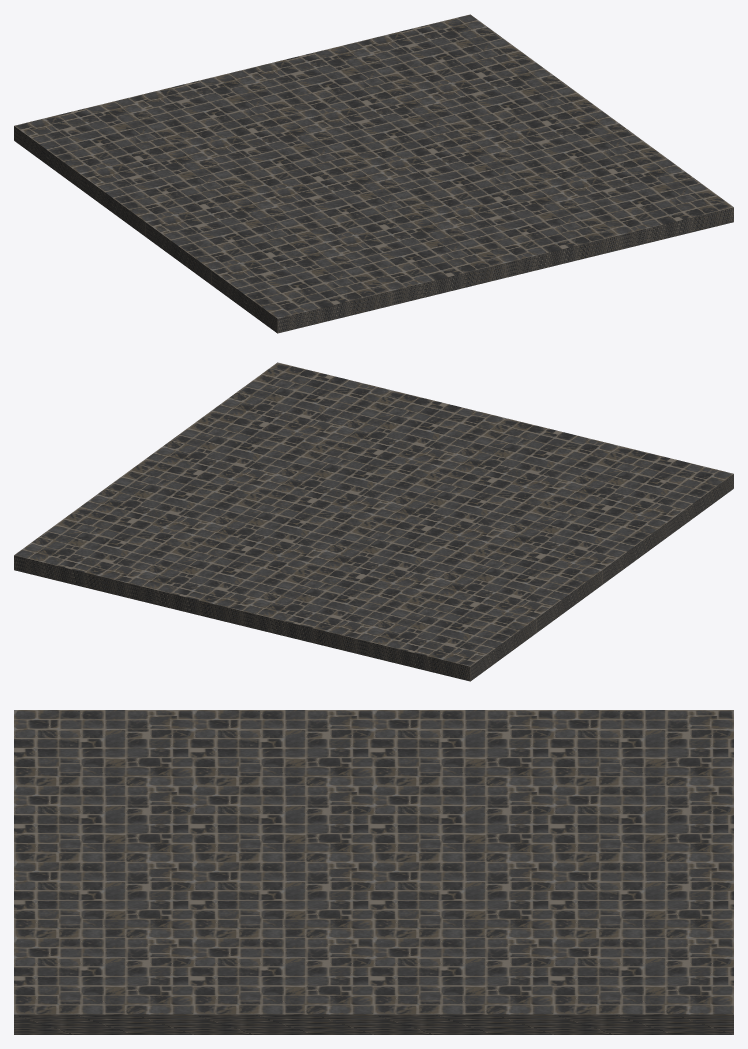
The model's file is SM_TileGround4m.FBX.
3 views of the same model, one above another, from view 1: azimuth 30°, elevation 25°; view 2: azimuth 150°, elevation 25°; view 3: azimuth 270°, elevation 25° (orthographic). The views are drawn at different scales.
Parts seen in each view (by area): view 1: SM_TileGround4m; view 2: SM_TileGround4m; view 3: SM_TileGround4m.
Part boxes in pixels (<box>): SM_TileGround4m: <box>14,14,733,333</box>; SM_TileGround4m: <box>14,362,733,681</box>; SM_TileGround4m: <box>14,710,733,1034</box>.
Bounding box in the file's own units: 800 × 800 × 25.
